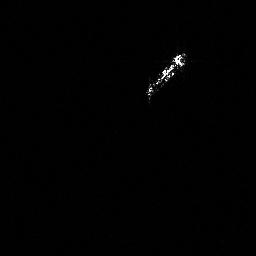ship: (142, 48, 189, 102)
